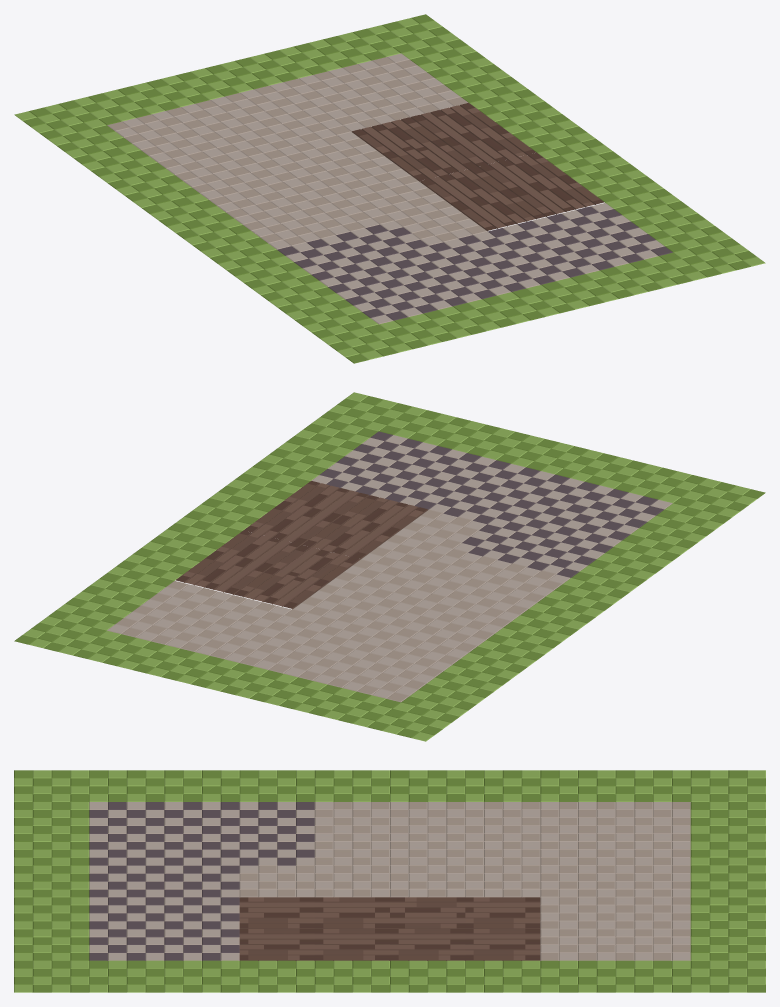
Rendered from floor.fbx.
The picture shows the model from 3 angles, top to bottom: view 1: azimuth 30°, elevation 25°; view 2: azimuth 150°, elevation 25°; view 3: azimuth 270°, elevation 25°; orthographic projection. The views are drawn at different scales.
Parts seen in each view (by area): view 1: floor_grass__7_, floor_tile1__7_, floor_grass__18_, floor_tile2__3_, floor_tile2__5_, floor_tile2__15_, floor_tile1__5_, floor_grass__16_, floor_grass__19_, floor_tile2__7_, floor_tile2__12_, floor_tile1 (+58 smaller); view 2: floor_grass__2_, floor_tile2__12_, floor_grass, floor_grass__10_, floor_tile2__1_, floor_tile2__5_, floor_tile2__14_, floor_tile1, floor_grass__13_, floor_grass__28_, floor_tile1__13_, floor_tile2__3_ (+58 smaller); view 3: floor_tile2__1_, floor_tile2__2_, floor_tile1__5_, floor_tile1__6_, floor_tile2__8_, floor_grass__3_, floor_grass__7_, floor_tile1__10_, floor_tile2__4_, floor_tile2__7_, floor_tile2__10_, floor_tile2__11_ (+58 smaller).
Boxes of the visible parts, left/top/right/bottom form: floor_grass__7_: left=497, top=281, right=589, bottom=320; floor_tile1__7_: left=311, top=260, right=403, bottom=299; floor_grass__18_: left=320, top=324, right=412, bottom=363; floor_tile2__3_: left=234, top=146, right=326, bottom=185; floor_tile2__5_: left=166, top=96, right=258, bottom=135; floor_tile2__15_: left=243, top=210, right=335, bottom=249; floor_tile1__5_: left=429, top=231, right=521, bottom=270; floor_grass__16_: left=218, top=250, right=310, bottom=288; floor_grass__19_: left=367, top=14, right=459, bottom=53; floor_tile2__7_: left=327, top=157, right=419, bottom=195; floor_tile2__12_: left=141, top=136, right=233, bottom=174; floor_tile1: left=336, top=221, right=428, bottom=259; floor_grass__2_: left=191, top=659, right=283, bottom=698; floor_tile2__12_: left=376, top=638, right=468, bottom=677; floor_grass: left=73, top=630, right=165, bottom=669; floor_grass__10_: left=367, top=702, right=459, bottom=741; floor_tile2__1_: left=258, top=609, right=350, bottom=648; floor_tile2__5_: left=283, top=649, right=375, bottom=687; floor_tile2__14_: left=444, top=588, right=536, bottom=627; floor_tile1: left=453, top=524, right=545, bottom=563; floor_grass__13_: left=469, top=628, right=561, bottom=666; floor_grass__28_: left=639, top=503, right=731, bottom=542; floor_tile1__13_: left=521, top=474, right=613, bottom=513; floor_tile2__3_: left=351, top=599, right=443, bottom=637; floor_tile2__1_: left=540, top=865, right=615, bottom=897; floor_tile2__2_: left=540, top=897, right=615, bottom=929; floor_tile1__5_: left=164, top=865, right=239, bottom=897; floor_tile1__6_: left=164, top=897, right=239, bottom=929; floor_tile2__8_: left=615, top=865, right=690, bottom=897; floor_grass__3_: left=690, top=833, right=765, bottom=865; floor_grass__7_: left=14, top=865, right=89, bottom=897; floor_tile1__10_: left=89, top=865, right=164, bottom=897; floor_tile2__4_: left=465, top=865, right=540, bottom=897; floor_tile2__7_: left=390, top=865, right=465, bottom=897; floor_tile2__10_: left=314, top=865, right=389, bottom=897; floor_tile2__11_: left=615, top=897, right=690, bottom=929.
Size of the model in its own units: 1477 by 2.22 by 2112.
